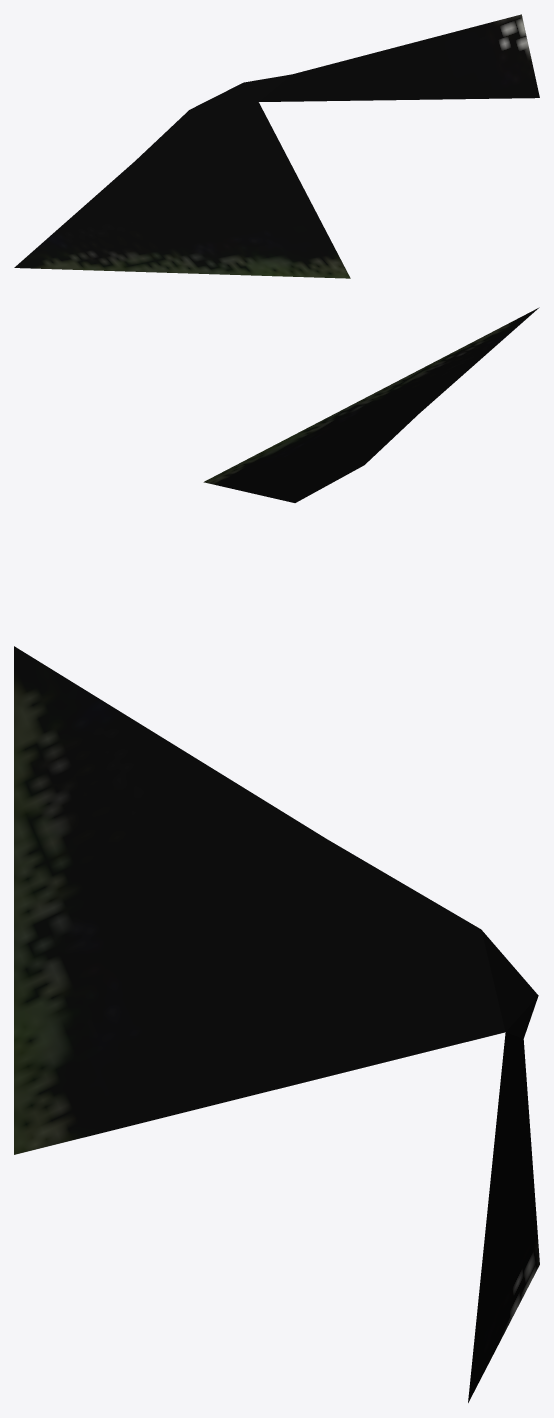
The picture shows the model from 3 angles, top to bottom: view 1: azimuth 30°, elevation 25°; view 2: azimuth 210°, elevation 25°; view 3: azimuth 270°, elevation 25°; orthographic projection. The views are drawn at different scales.
Bounding box in the file's own units: 0.761 × 0.1054 × 0.2735.
Materials: 1 (1 with a texture image).
